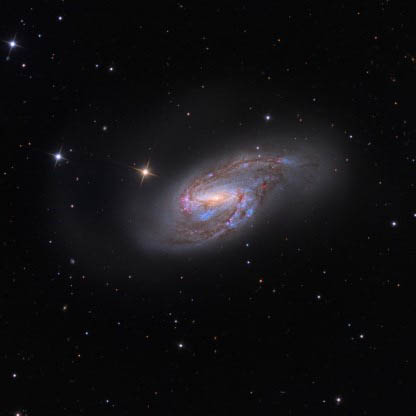Messier 66: (119, 123, 347, 266)
